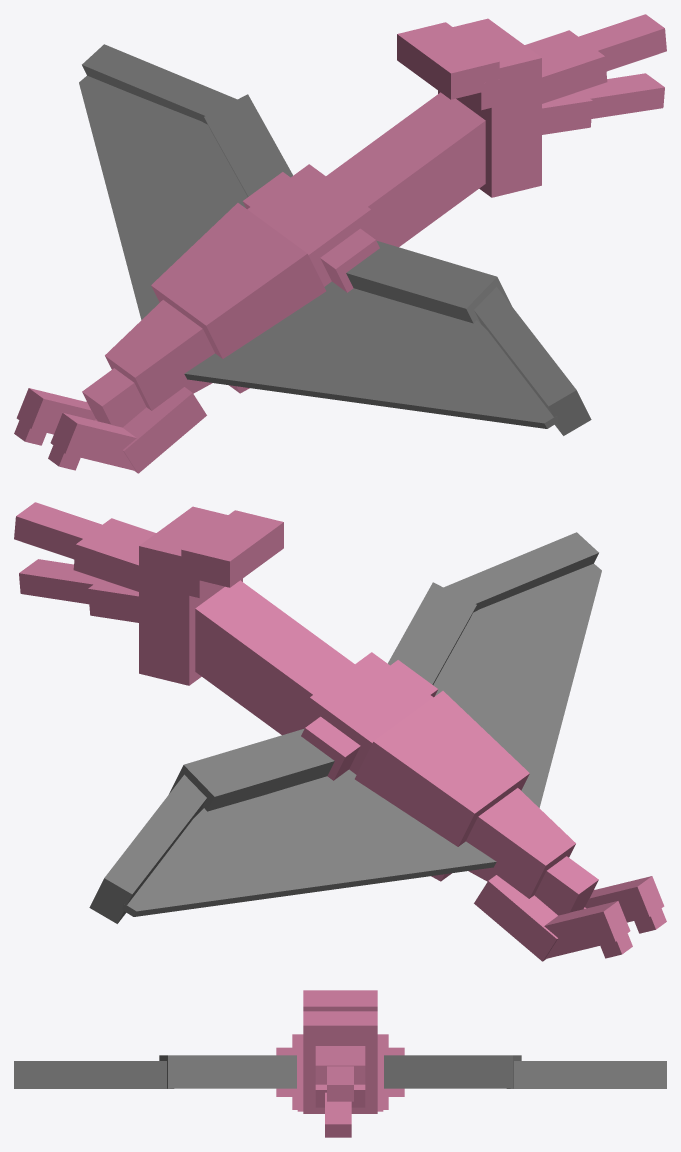
File: estegosaurio.fbx
3 views of the same model, one above another, from view 1: azimuth 30°, elevation 25°; view 2: azimuth 150°, elevation 25°; view 3: azimuth 270°, elevation 25° (orthographic). The views are drawn at different scales.
Visible parts, largest first — view 1: Object, Object004, Object006; view 2: Object, Object006, Object004; view 3: Object, Object004, Object006.
Part boxes in pixels (x1,y1,x2,y2): Object: [14, 14, 666, 473]; Object004: [184, 240, 591, 435]; Object006: [79, 44, 292, 319]; Object: [14, 502, 666, 961]; Object006: [89, 728, 496, 923]; Object004: [388, 532, 601, 807]; Object: [276, 990, 404, 1137]; Object004: [14, 1055, 296, 1088]; Object006: [384, 1055, 666, 1088].
Size of the model in its own units: 101 by 50.76 by 134.
